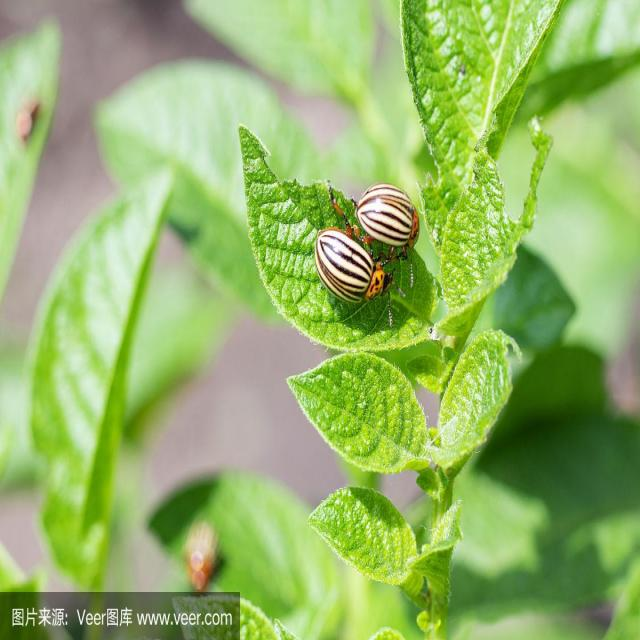ShuCaiHuaBanChong-Grown-: (303, 229, 400, 309), (359, 179, 429, 252)
